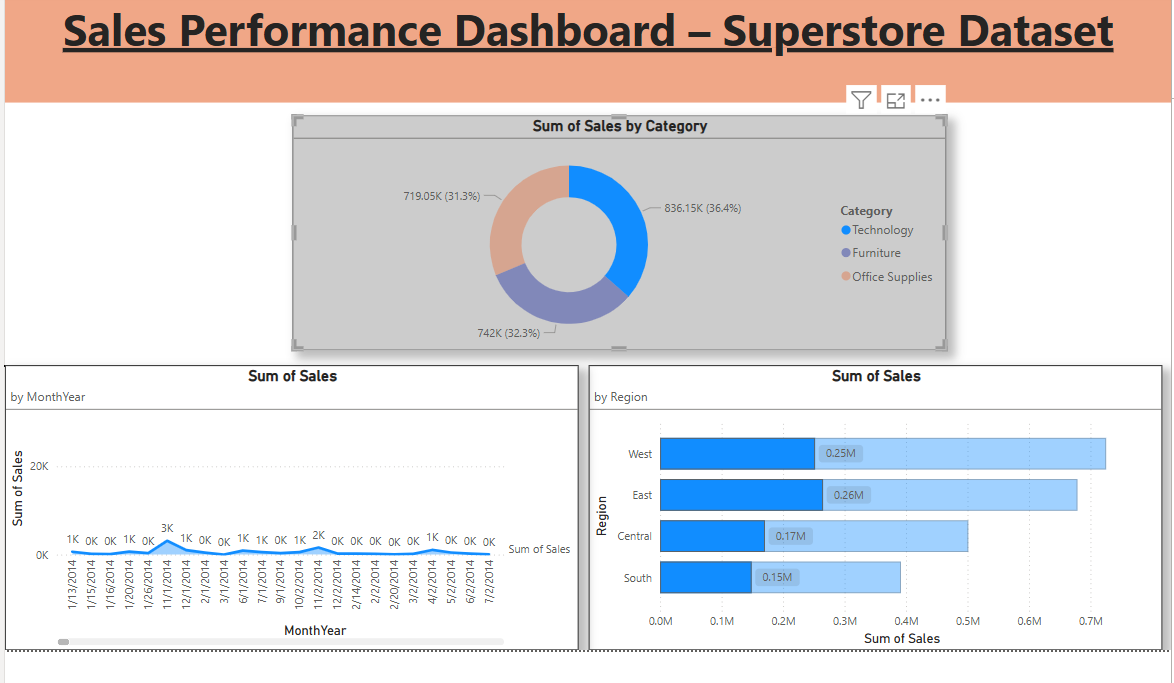

Layout of this report page (visuals, bound fields, positions):
{"tool":"powerbi","page":{"name":"Page 1","canvas":[1280,720],"ordinal":0},"visuals":[{"type":"textbox","box":[0,0,1280.3,119.4],"z":0},{"type":"clusteredBarChart","fields":{"Category":["Sample - Superstore.Region"],"Y":["Sum(Sample - Superstore.Sales)"]},"box":[640.8,407.5,629.8,312.9],"z":2},{"type":"lineChart","fields":{"Category":["Sample - Superstore.MonthYear"],"Y":["Sum(Sample - Superstore.Sales)"]},"box":[0,407.5,629.8,312.9],"z":3},{"type":"donutChart","fields":{"Y":["Sum(Sample - Superstore.Sales)"],"Category":["Sample - Superstore.Category"]},"box":[315.6,133.1,717.7,258],"z":4}]}

Visuals, with their boxes in screenshot pixels (x1, y1, x2, y2):
textbox: detection(3, 0, 1161, 102)
clusteredBarChart - Sample - Superstore.Region x Sum(Sample - Superstore.Sales): detection(583, 362, 1152, 645)
lineChart - Sample - Superstore.MonthYear x Sum(Sample - Superstore.Sales): detection(3, 362, 573, 645)
donutChart - Sum(Sample - Superstore.Sales) x Sample - Superstore.Category: detection(289, 114, 938, 348)
